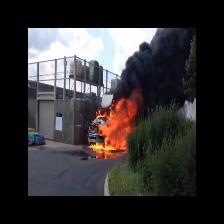fire: (99, 96, 132, 161)
smoke: (137, 38, 189, 102)
